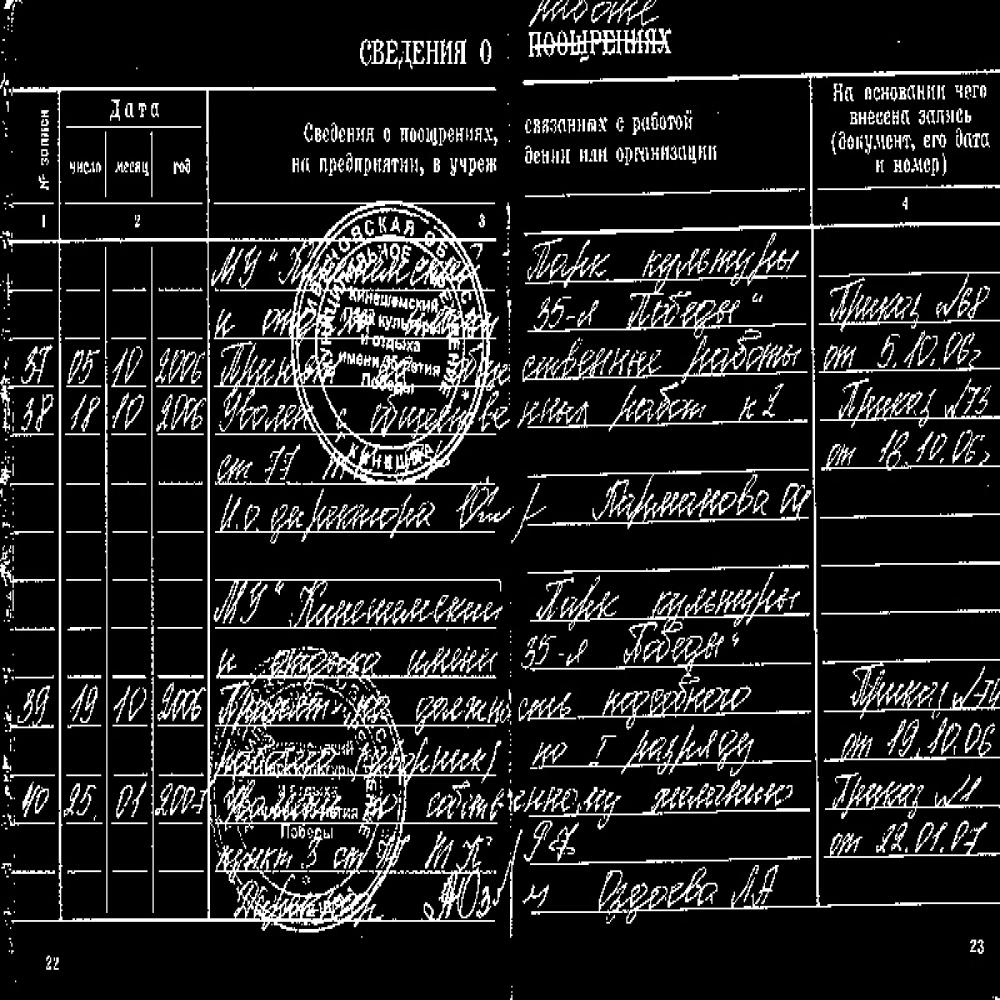rus: (210, 238, 507, 292), (210, 392, 514, 438), (219, 731, 503, 780), (214, 340, 509, 386), (212, 681, 506, 727), (212, 628, 497, 675), (213, 577, 501, 623), (219, 830, 501, 876), (210, 296, 509, 339), (521, 333, 808, 377), (518, 773, 804, 817), (524, 234, 805, 278), (214, 777, 505, 819), (516, 673, 764, 721), (521, 384, 797, 427), (529, 571, 805, 613), (9, 679, 211, 733), (215, 490, 444, 536), (529, 722, 768, 766), (586, 476, 814, 522), (521, 620, 752, 665), (587, 864, 788, 915), (824, 657, 1000, 715), (214, 443, 462, 484), (526, 289, 793, 327), (17, 337, 207, 388), (16, 386, 205, 435), (8, 776, 206, 822), (827, 764, 1000, 811), (818, 424, 994, 470), (821, 274, 988, 317), (821, 379, 995, 420), (526, 22, 680, 68), (825, 718, 1000, 758), (828, 819, 999, 857), (826, 328, 986, 368), (338, 30, 471, 70), (32, 101, 60, 197), (104, 84, 165, 128), (296, 114, 376, 147), (615, 141, 720, 166), (399, 121, 495, 148), (318, 155, 420, 177), (862, 82, 950, 105), (632, 110, 698, 136), (522, 114, 608, 133), (837, 132, 910, 153), (848, 108, 910, 130), (448, 154, 503, 177), (523, 142, 571, 168), (69, 150, 104, 185), (918, 107, 976, 128), (825, 71, 858, 107), (111, 151, 149, 181), (893, 155, 940, 176), (954, 128, 992, 150), (169, 154, 199, 179), (954, 81, 988, 100), (579, 146, 610, 165), (923, 132, 949, 151), (480, 37, 495, 68), (290, 156, 312, 177), (380, 118, 392, 146), (431, 156, 445, 180), (874, 158, 888, 177), (614, 114, 626, 136)
